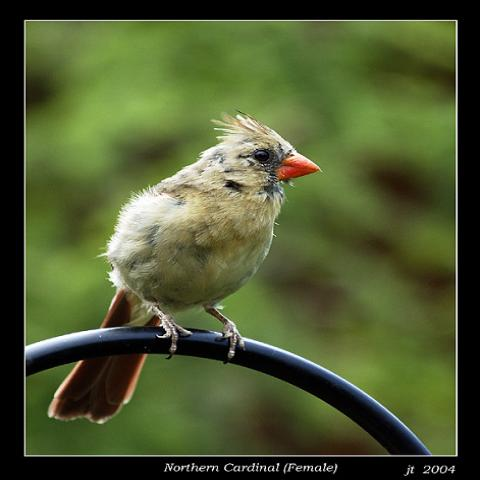bird: (46, 108, 323, 424)
